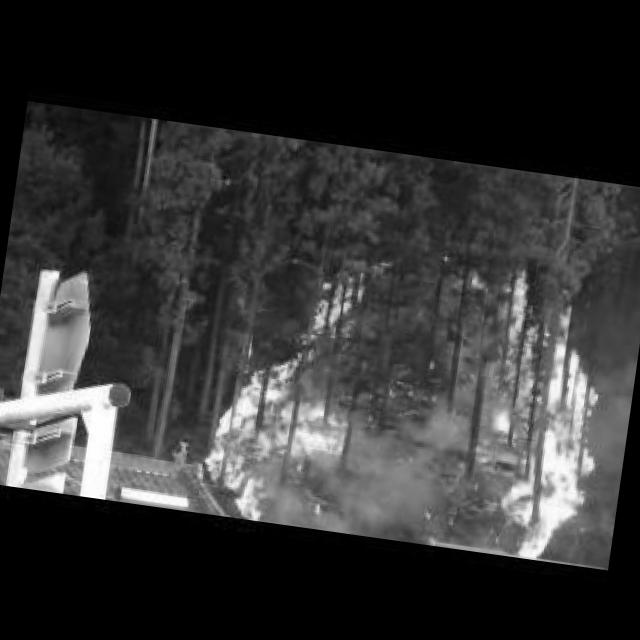fire: (458, 266, 631, 566), (198, 256, 368, 530), (469, 276, 482, 288)
smoke: (324, 385, 480, 541)
